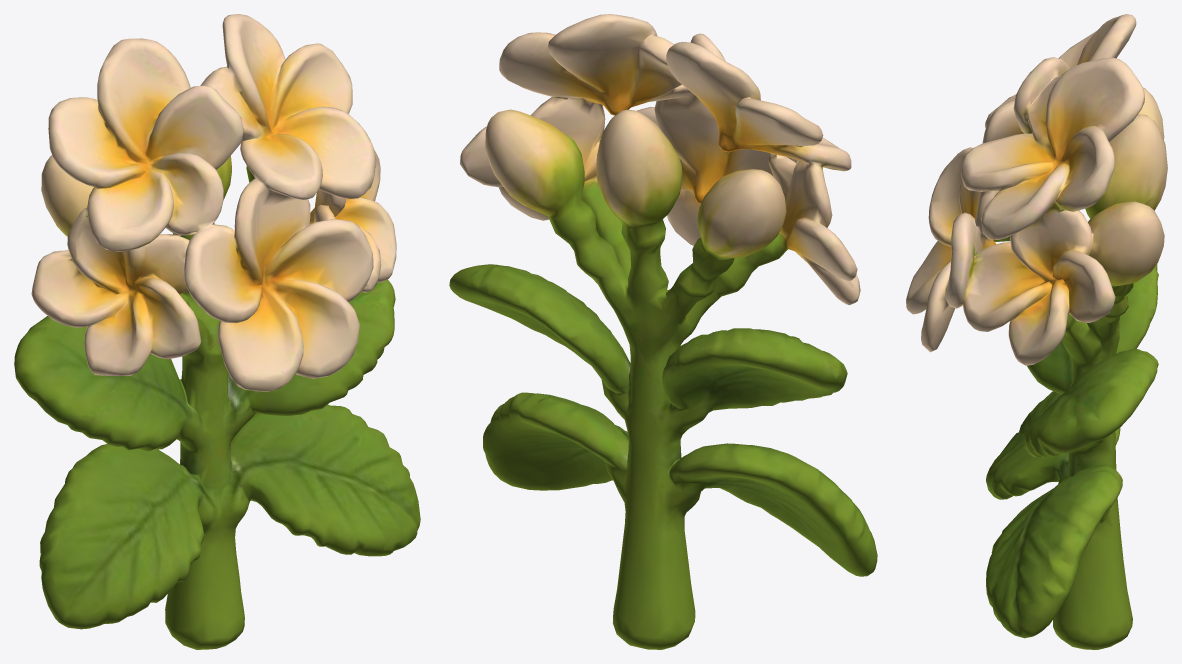
File: plumeria_s5.glb
3 renders of one model, left to right at view 1: azimuth 30°, elevation 25°; view 2: azimuth 150°, elevation 25°; view 3: azimuth 270°, elevation 25°, orthographic. The views are drawn at different scales.
Size of the model in its own units: 0.6466 by 1 by 0.3945.
Materials: 1 (1 with a texture image).
